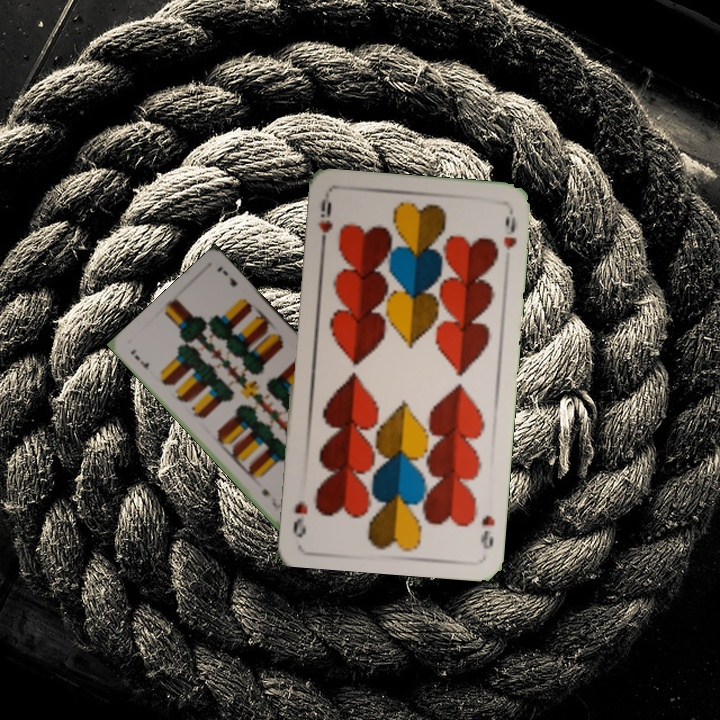E7: (126, 345, 152, 372)
H9: (313, 193, 335, 252), (476, 511, 497, 552)
